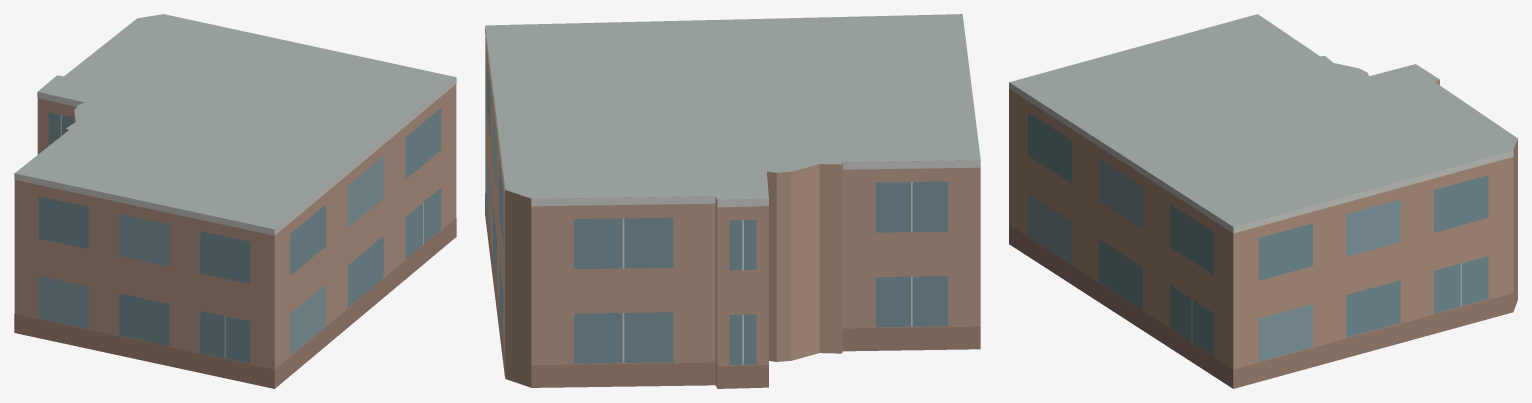
The model's file is survey-upis-32619289.glb.
The picture shows the model from 3 angles, left to right: view 1: azimuth 30°, elevation 25°; view 2: azimuth 150°, elevation 25°; view 3: azimuth 270°, elevation 25°; orthographic projection. The views are drawn at different scales.
Visible parts, largest first — view 1: survey-upis-32619289.tmp; view 2: survey-upis-32619289.tmp; view 3: survey-upis-32619289.tmp.
Boxes of the visible parts, x1,y1,x2,y2 form: survey-upis-32619289.tmp: (14, 14, 456, 388); survey-upis-32619289.tmp: (485, 14, 980, 388); survey-upis-32619289.tmp: (1009, 14, 1517, 388).
Size of the model in its own units: 17.22 by 6.1 by 17.38.
